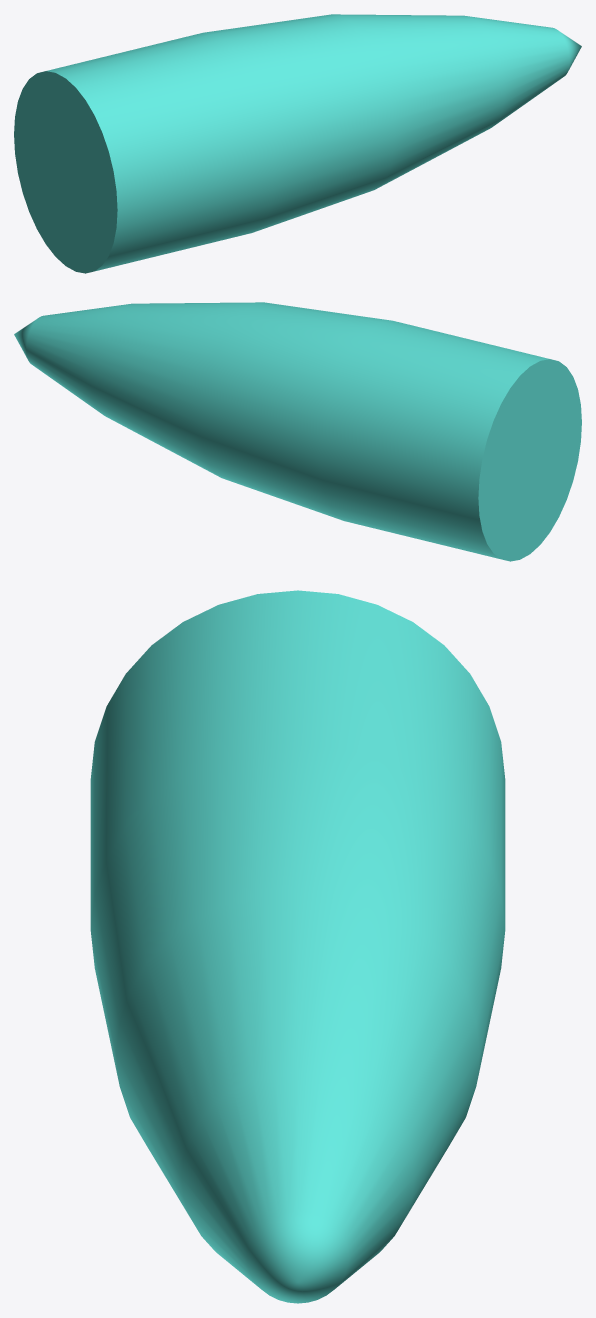
File: bala_diamante.obj
3 renders of one model, top to bottom at view 1: azimuth 30°, elevation 25°; view 2: azimuth 150°, elevation 25°; view 3: azimuth 270°, elevation 25°, orthographic. The views are drawn at different scales.
Size of the model in its own units: 0.0656 by 0.0228 by 0.0228.
